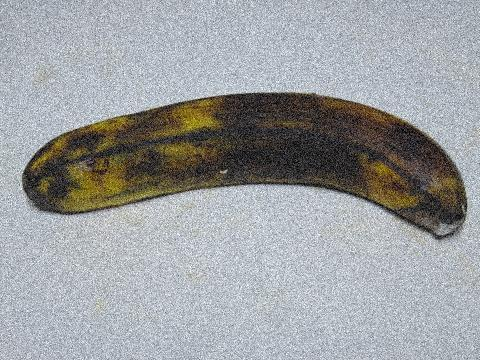overripe: (17, 71, 468, 253)
